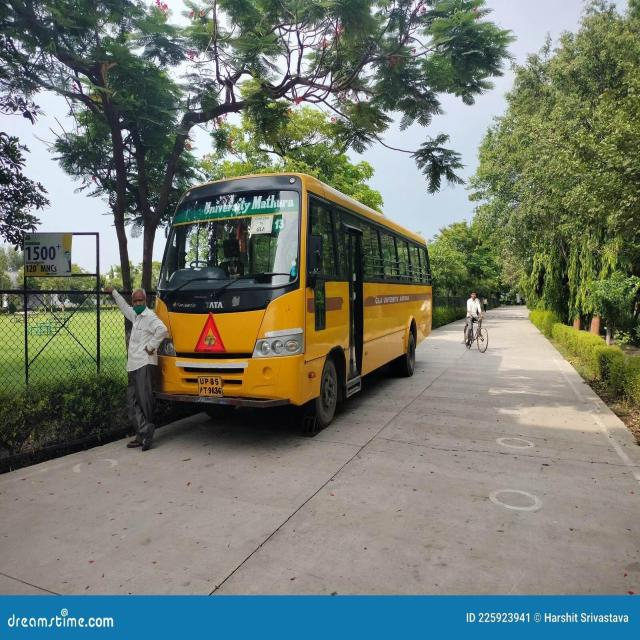bicycle: (464, 291, 489, 352)
bus: (155, 174, 431, 433)
